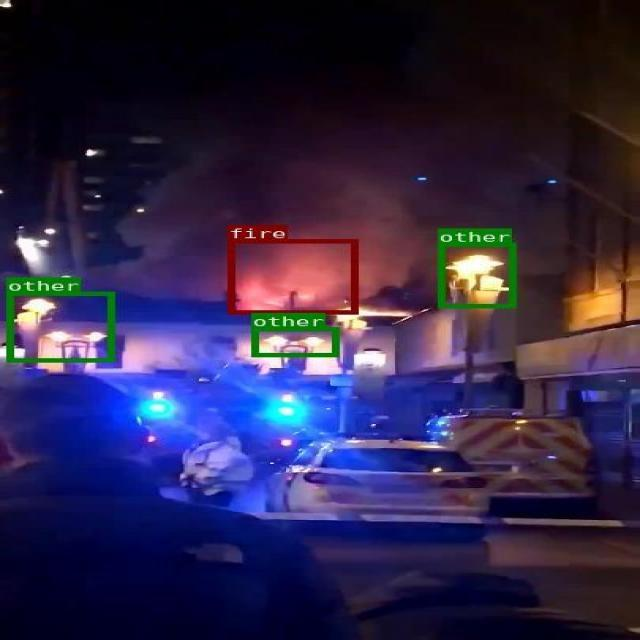fire: (228, 239, 357, 313)
